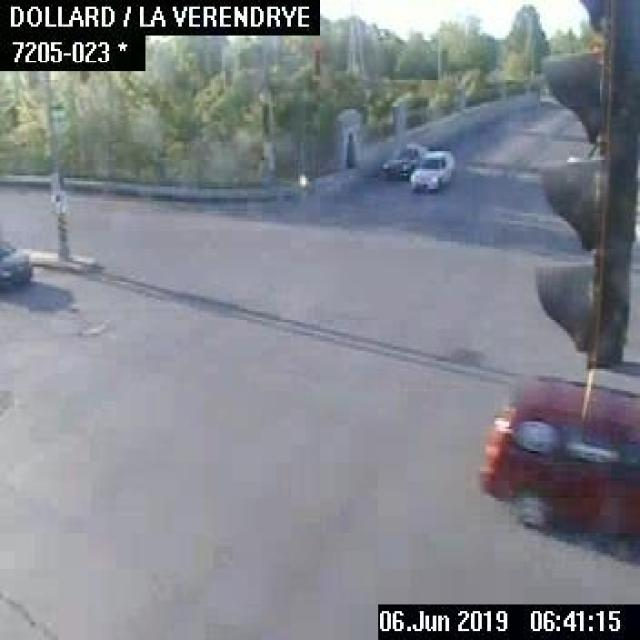vehicle: (473, 373, 638, 540), (407, 146, 453, 191), (0, 235, 31, 289), (381, 138, 421, 178)
